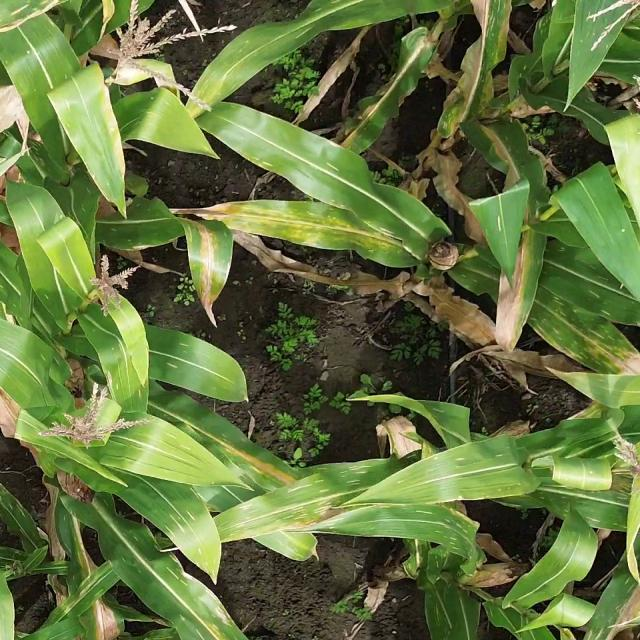gray-leaf-spot: (102, 490, 218, 640), (491, 271, 640, 387), (232, 447, 400, 548), (419, 432, 533, 570), (100, 334, 241, 406)
northern-leaf-blight: (430, 1, 516, 154), (64, 68, 174, 176), (476, 226, 542, 342), (178, 220, 252, 314)
southern-leaf-blight: (204, 198, 437, 270), (512, 461, 640, 536)
